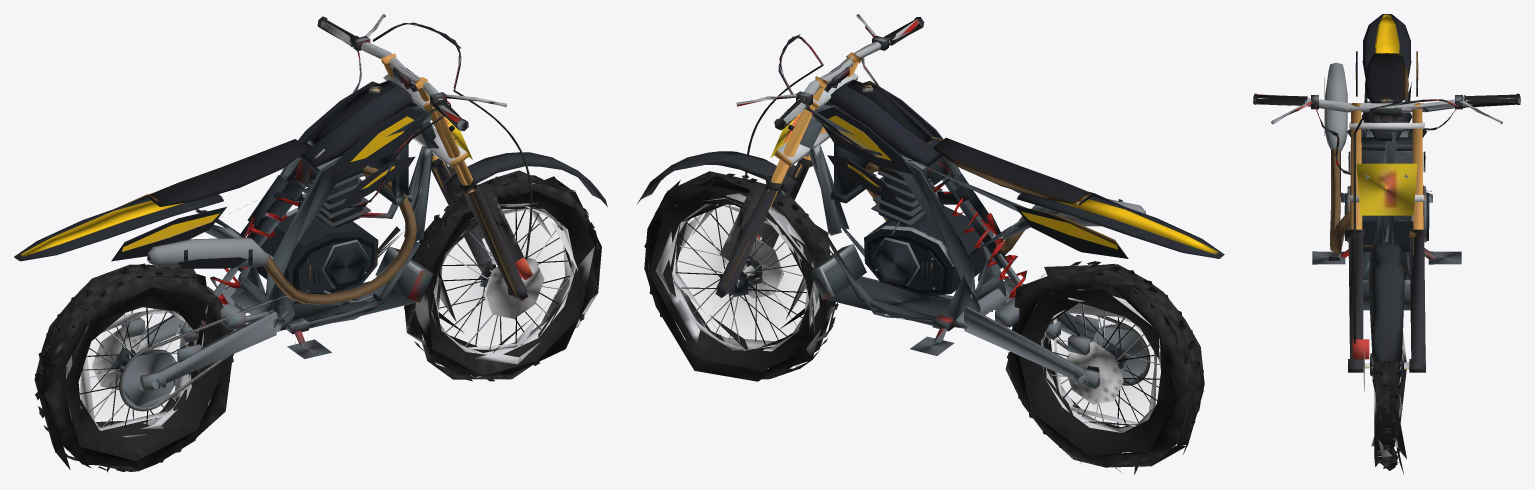
Rendered from bike-pro-lod.glb.
The picture shows the model from 3 angles, left to right: view 1: azimuth 30°, elevation 25°; view 2: azimuth 150°, elevation 25°; view 3: azimuth 270°, elevation 25°; orthographic projection. The views are drawn at different scales.
Visible parts, largest first — view 1: wheel_rear, wheel_front, bodywork, frame, engine, fork_lower, exhaust, swingarm, handlebar, fork_upper, shock_body, sprocket_rear (+6 smaller); view 2: wheel_rear, wheel_front, bodywork, frame, engine, fork_lower, swingarm, handlebar, wheel_front_blur, fork_upper, wheel_front_spokes, shock_body (+6 smaller); view 3: fork_lower, fork_upper, bodywork, handlebar, wheel_front, frame, exhaust, engine, pegs, brake_hose.
Boxes of the visible parts, x1,y1,x2,y2 form: wheel_rear: [34, 263, 233, 472]; wheel_front: [403, 170, 601, 381]; bodywork: [14, 80, 427, 261]; frame: [195, 105, 438, 334]; engine: [256, 148, 381, 303]; fork_lower: [431, 152, 607, 300]; exhaust: [147, 166, 416, 304]; swingarm: [121, 282, 285, 392]; handlebar: [317, 14, 506, 208]; fork_upper: [380, 53, 473, 198]; shock_body: [237, 161, 313, 271]; sprocket_rear: [122, 349, 177, 407]; wheel_rear: [1005, 261, 1204, 474]; wheel_front: [644, 171, 838, 381]; bodywork: [815, 79, 1224, 258]; frame: [799, 105, 1059, 331]; engine: [864, 137, 986, 296]; fork_lower: [637, 151, 813, 297]; swingarm: [956, 280, 1099, 388]; handlebar: [736, 14, 924, 235]; wheel_front_blur: [700, 231, 782, 320]; fork_upper: [767, 52, 861, 208]; wheel_front_spokes: [674, 204, 806, 348]; shock_body: [926, 160, 1008, 268]; fork_lower: [1347, 229, 1426, 372]; fork_upper: [1349, 103, 1424, 254]; bodywork: [1348, 14, 1425, 172]; handlebar: [1253, 93, 1520, 191]; wheel_front: [1363, 272, 1406, 474]; frame: [1347, 82, 1426, 310]; exhaust: [1324, 62, 1350, 254]; engine: [1328, 130, 1429, 260]; pegs: [1312, 248, 1461, 264]; brake_hose: [1353, 133, 1355, 343].
Size of the model in its own units: 2.08 by 1.21 by 0.8748.
Materials: 7 (7 with a texture image).
